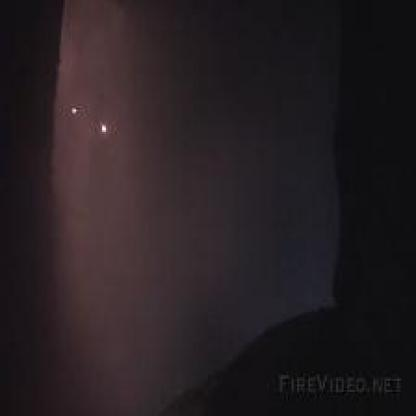other: (95, 117, 116, 140), (64, 100, 80, 117)
